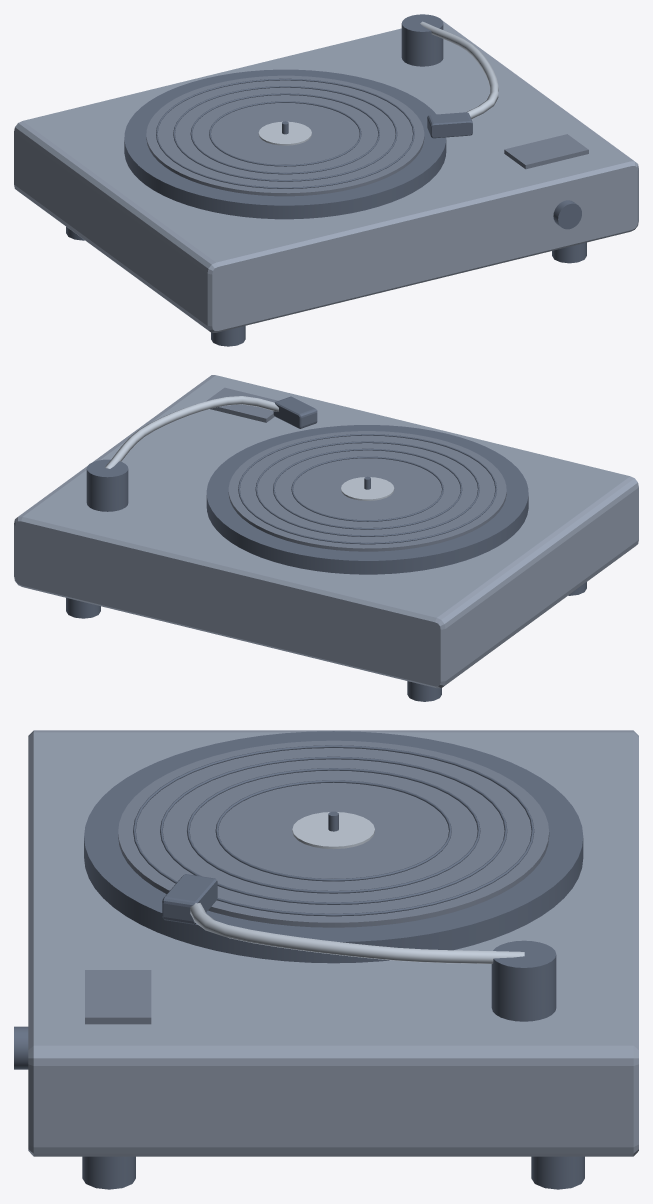
The model's file is 唱片机-lite.glb.
The picture shows the model from 3 angles, top to bottom: view 1: azimuth 30°, elevation 25°; view 2: azimuth 150°, elevation 25°; view 3: azimuth 270°, elevation 25°; orthographic projection. The views are drawn at different scales.
Visible parts, largest first — view 1: body, accent, dark, light; view 2: body, accent, dark, light; view 3: body, accent, dark, light.
Boxes of the visible parts, left/top/right/bottom form: body: left=14, top=21, right=638, bottom=332; accent: left=146, top=75, right=588, bottom=196; dark: left=66, top=14, right=586, bottom=346; light: left=258, top=21, right=498, bottom=145; body: left=14, top=375, right=638, bottom=688; accent: left=206, top=387, right=506, bottom=551; dark: left=66, top=396, right=586, bottom=701; light: left=105, top=396, right=394, bottom=500; body: left=28, top=730, right=638, bottom=1156; accent: left=85, top=740, right=549, bottom=1024; dark: left=14, top=731, right=584, bottom=1189; light: left=190, top=812, right=524, bottom=963.
Bounding box in the file's own units: 0.43 × 0.1396 × 0.348.
